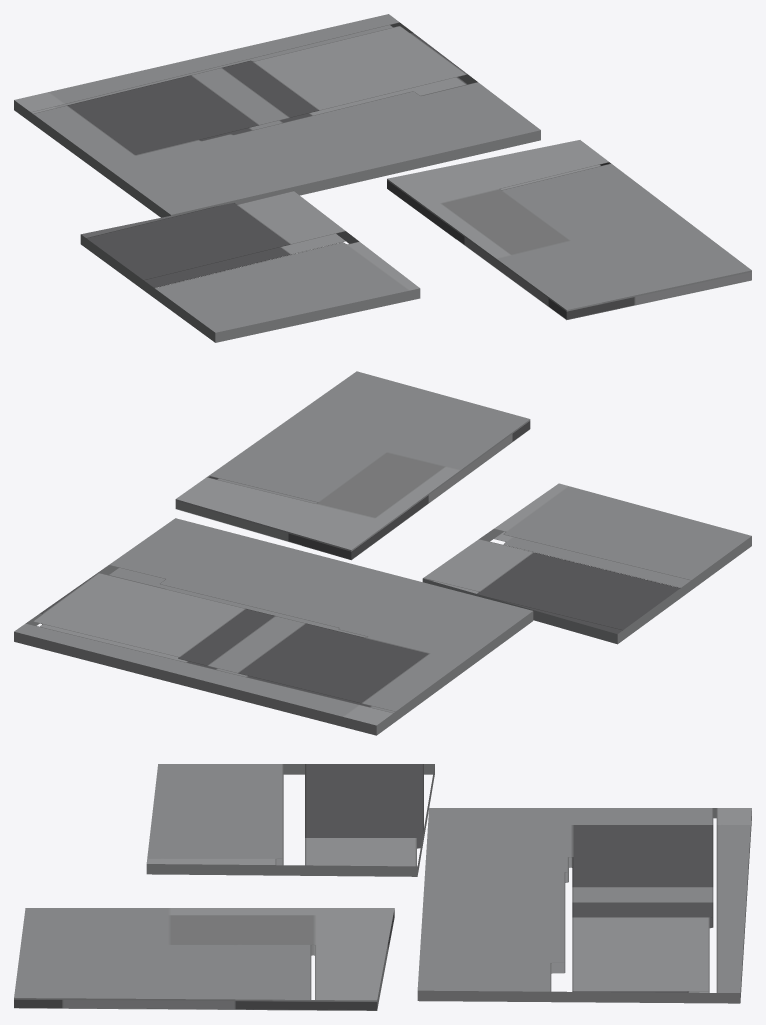
3 views of the same model, one above another, from view 1: azimuth 30°, elevation 25°; view 2: azimuth 150°, elevation 25°; view 3: azimuth 270°, elevation 25° (orthographic). The views are drawn at different scales.
Size of the model in its own units: 0.97 by 0.02 by 1.28.
